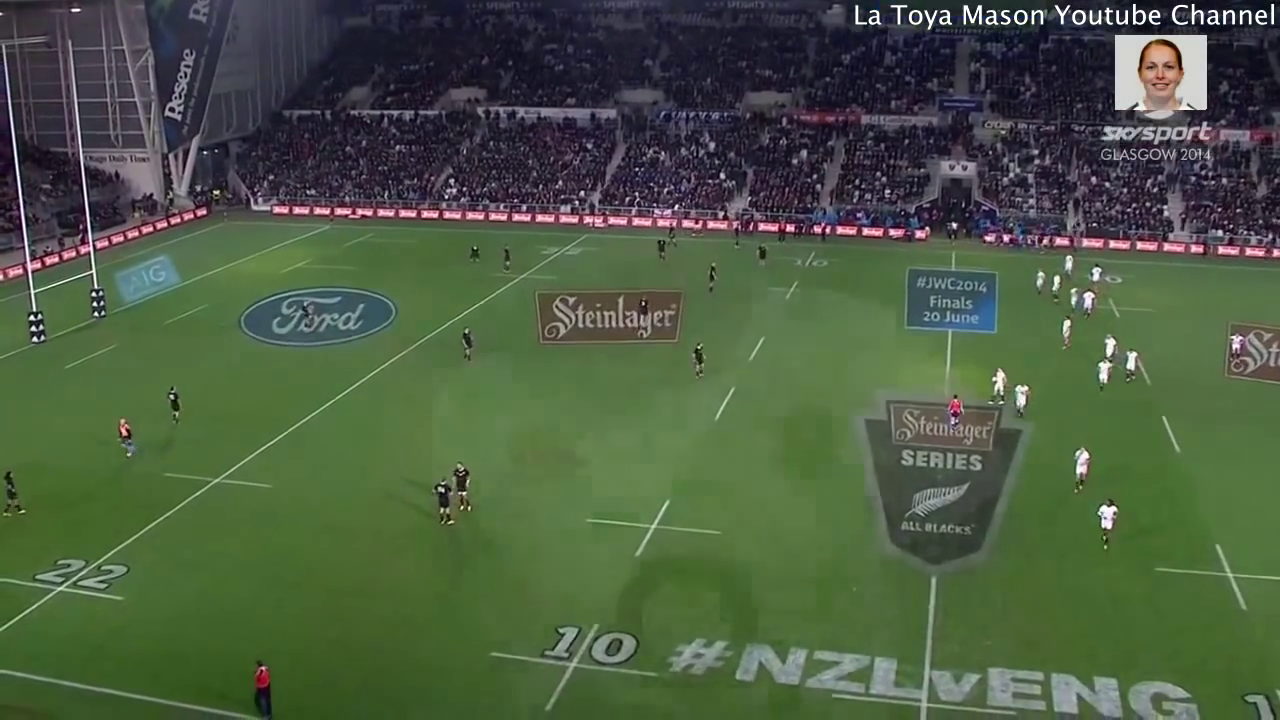10_metre: (483, 612, 686, 720), (583, 493, 736, 561), (1155, 540, 1280, 613), (1080, 291, 1154, 320), (773, 248, 842, 271), (763, 276, 815, 301), (1071, 267, 1133, 286)
player: (1093, 494, 1121, 558), (1, 466, 32, 522), (428, 474, 456, 529), (1118, 343, 1148, 387), (988, 360, 1011, 410), (1071, 439, 1090, 499), (452, 458, 471, 514), (1010, 379, 1032, 426), (116, 417, 139, 459), (456, 319, 477, 364), (164, 382, 183, 428), (689, 341, 710, 378), (946, 391, 964, 433), (1086, 260, 1107, 295), (1057, 312, 1074, 352), (1093, 356, 1112, 391), (1078, 284, 1095, 321), (703, 258, 720, 294), (1102, 331, 1119, 364), (1060, 247, 1076, 280), (728, 222, 746, 251), (1033, 265, 1047, 302), (500, 242, 516, 272), (1048, 272, 1062, 306), (663, 221, 679, 250), (754, 239, 768, 269), (1068, 281, 1080, 314), (655, 236, 668, 266), (637, 295, 648, 324), (470, 241, 483, 265)
post: (1, 36, 110, 346)
